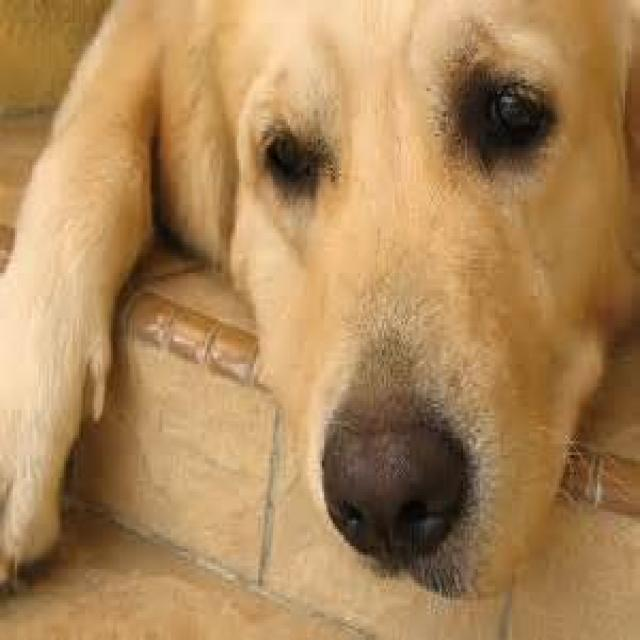dog: (0, 0, 640, 606)
